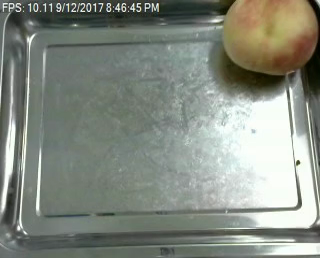Peach: (221, 0, 318, 75)
